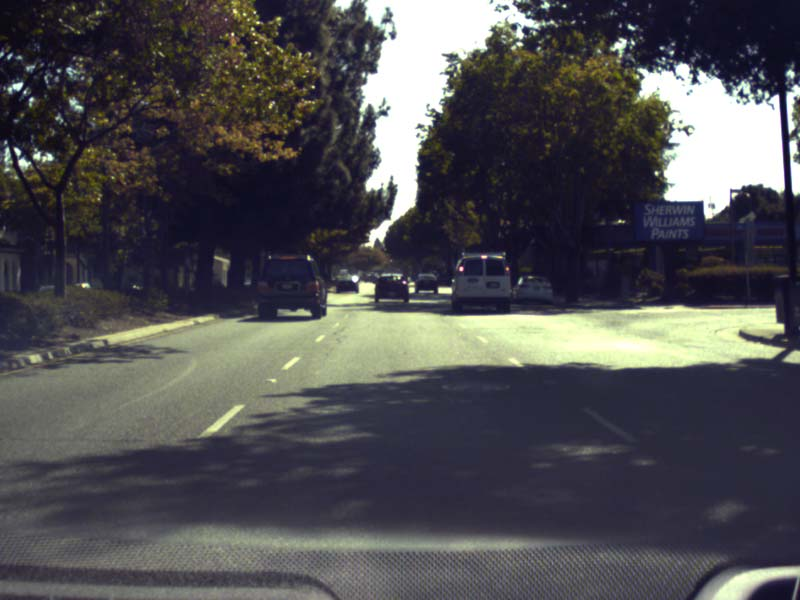Red: (389, 258, 392, 263)
